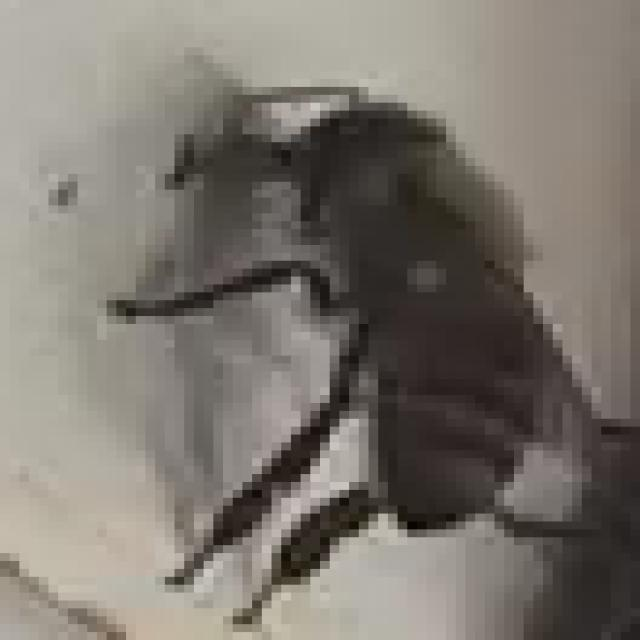honeybee: (124, 80, 614, 610)
